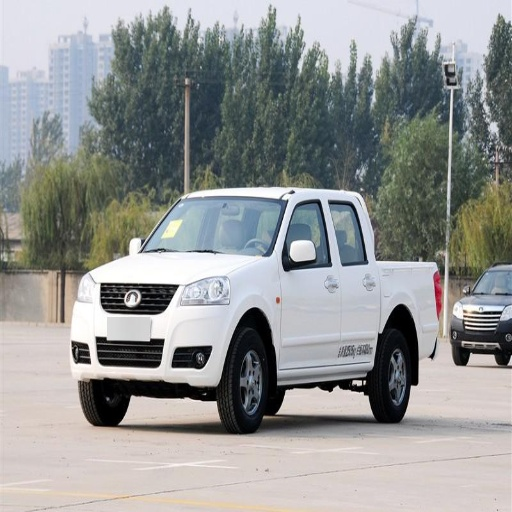back_left_door: (328, 199, 375, 361)
front_bumper: (69, 271, 239, 387)
front_glass: (140, 198, 285, 255)
front_left_door: (279, 198, 342, 368)
trunk: (381, 264, 440, 355)
